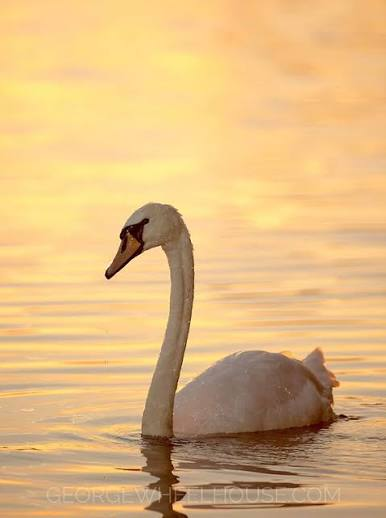swan: (103, 203, 340, 440)
